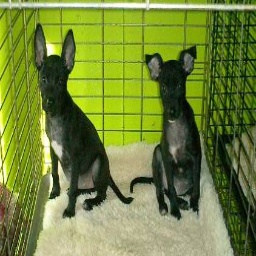dog: (31, 21, 206, 222)
